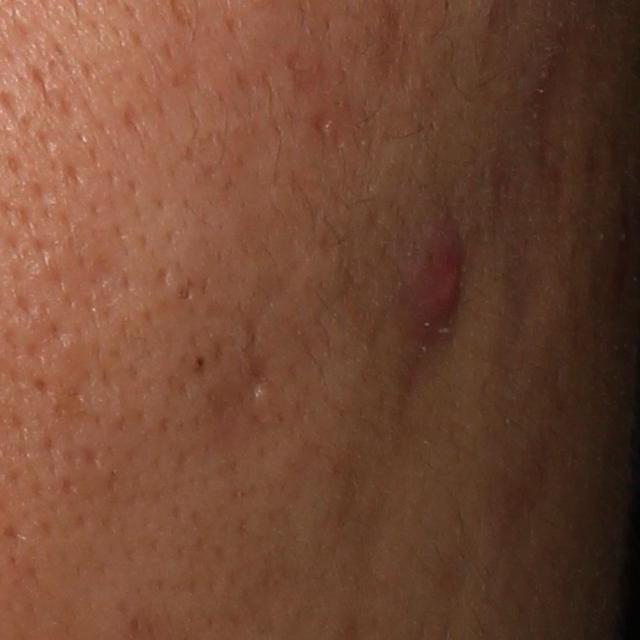papule: (410, 209, 471, 335)
